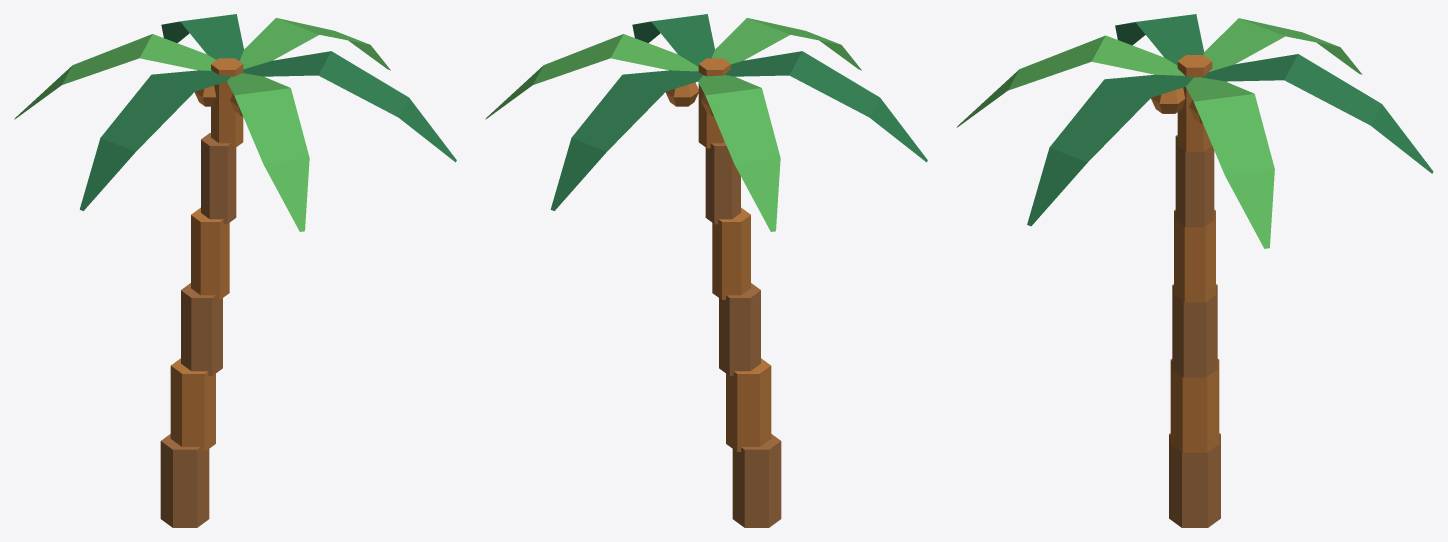
The model's file is mdl_z5_palmera.fbx.
3 views of the same model, side by side, from view 1: azimuth 30°, elevation 25°; view 2: azimuth 150°, elevation 25°; view 3: azimuth 270°, elevation 25° (orthographic). The views are drawn at different scales.
Visible parts, largest first — view 1: mdl_z5_palmera; view 2: mdl_z5_palmera; view 3: mdl_z5_palmera.
Part boxes in pixels (x1=…): mdl_z5_palmera: x1=14, y1=14, x2=456, y2=527; mdl_z5_palmera: x1=485, y1=14, x2=927, y2=527; mdl_z5_palmera: x1=957, y1=14, x2=1433, y2=527.
Size of the model in its own units: 805 by 925 by 821.
